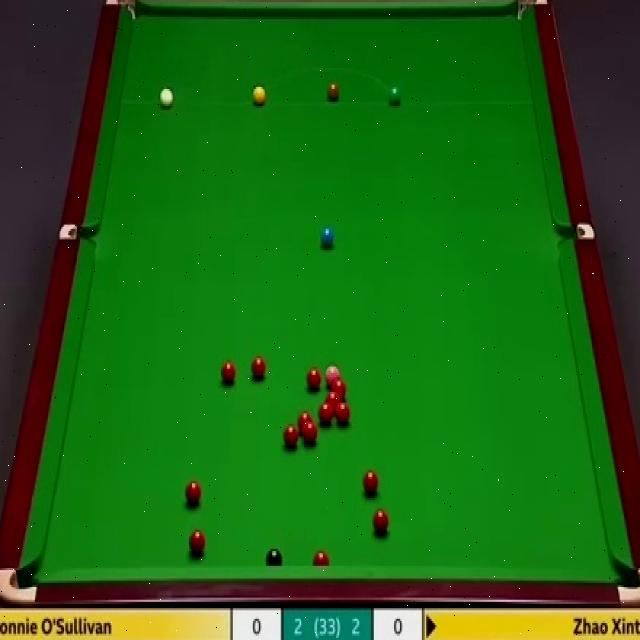black-ball: (266, 548, 284, 566)
blue-ball: (320, 228, 335, 245)
brown-ball: (328, 82, 340, 101)
green-ball: (387, 83, 402, 107)
pink-ball: (326, 364, 340, 386)
red-ball: (362, 468, 379, 495), (188, 531, 206, 556), (329, 377, 347, 402), (373, 509, 389, 535), (304, 368, 322, 391), (250, 353, 267, 377), (184, 480, 202, 502), (283, 423, 298, 449), (220, 362, 238, 383), (336, 401, 350, 422), (298, 412, 312, 432), (304, 422, 318, 442), (318, 402, 332, 422), (312, 550, 331, 564)
white-ball: (159, 86, 173, 106)
yellow-ball: (252, 85, 266, 106)
